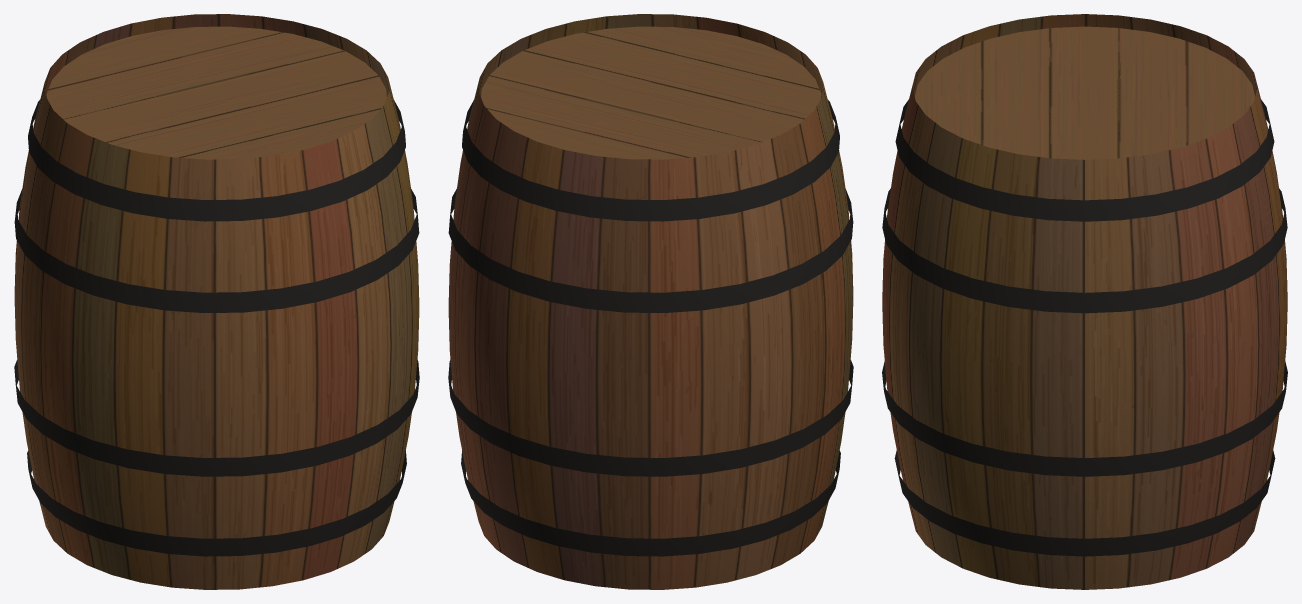
File: barrel.obj
3 views of the same model, side by side, from view 1: azimuth 30°, elevation 25°; view 2: azimuth 150°, elevation 25°; view 3: azimuth 270°, elevation 25° (orthographic).
Visible parts, largest first — view 1: Staves, Lids, Hoops; view 2: Staves, Lids, Hoops; view 3: Staves, Lids, Hoops.
Part boxes in pixels (x1,y1,x2,y2): Staves: (14,14,419,589); Lids: (46,26,386,159); Hoops: (14,99,419,556); Staves: (448,14,853,589); Lids: (481,26,821,159); Hoops: (448,99,853,556); Staves: (882,14,1287,589); Lids: (915,26,1254,159); Hoops: (882,99,1287,556).
Size of the model in its own units: 0.941 by 1.1 by 0.941.
Materials: 3 (2 with a texture image).
